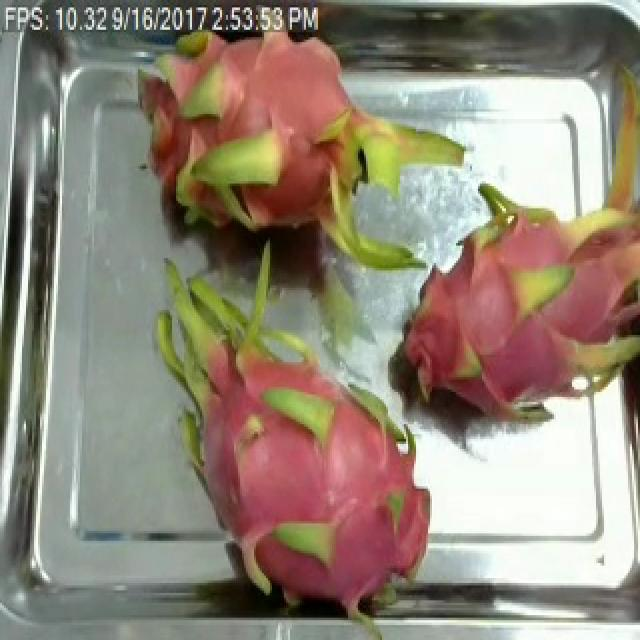Fruit: (558, 188, 640, 360)
